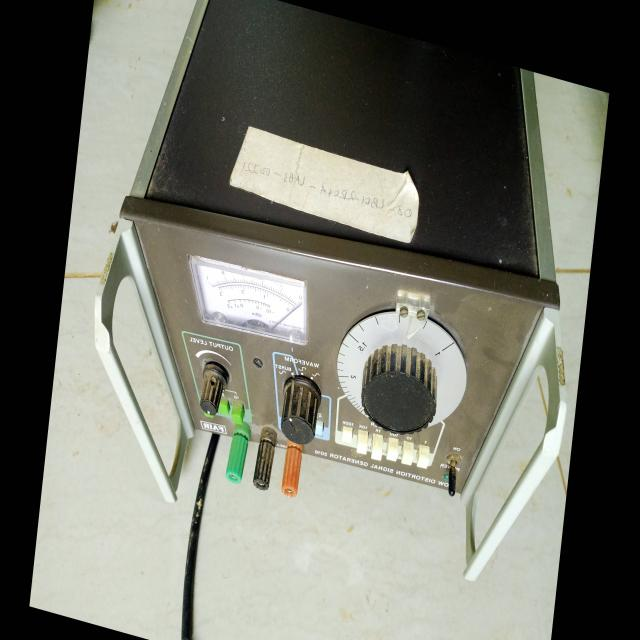Low Distortion Signal Generator: (68, 0, 601, 640)
